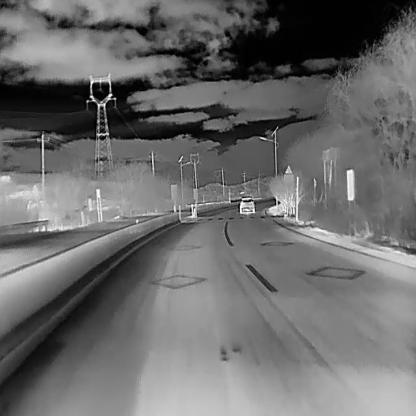car: (239, 195, 255, 214)
